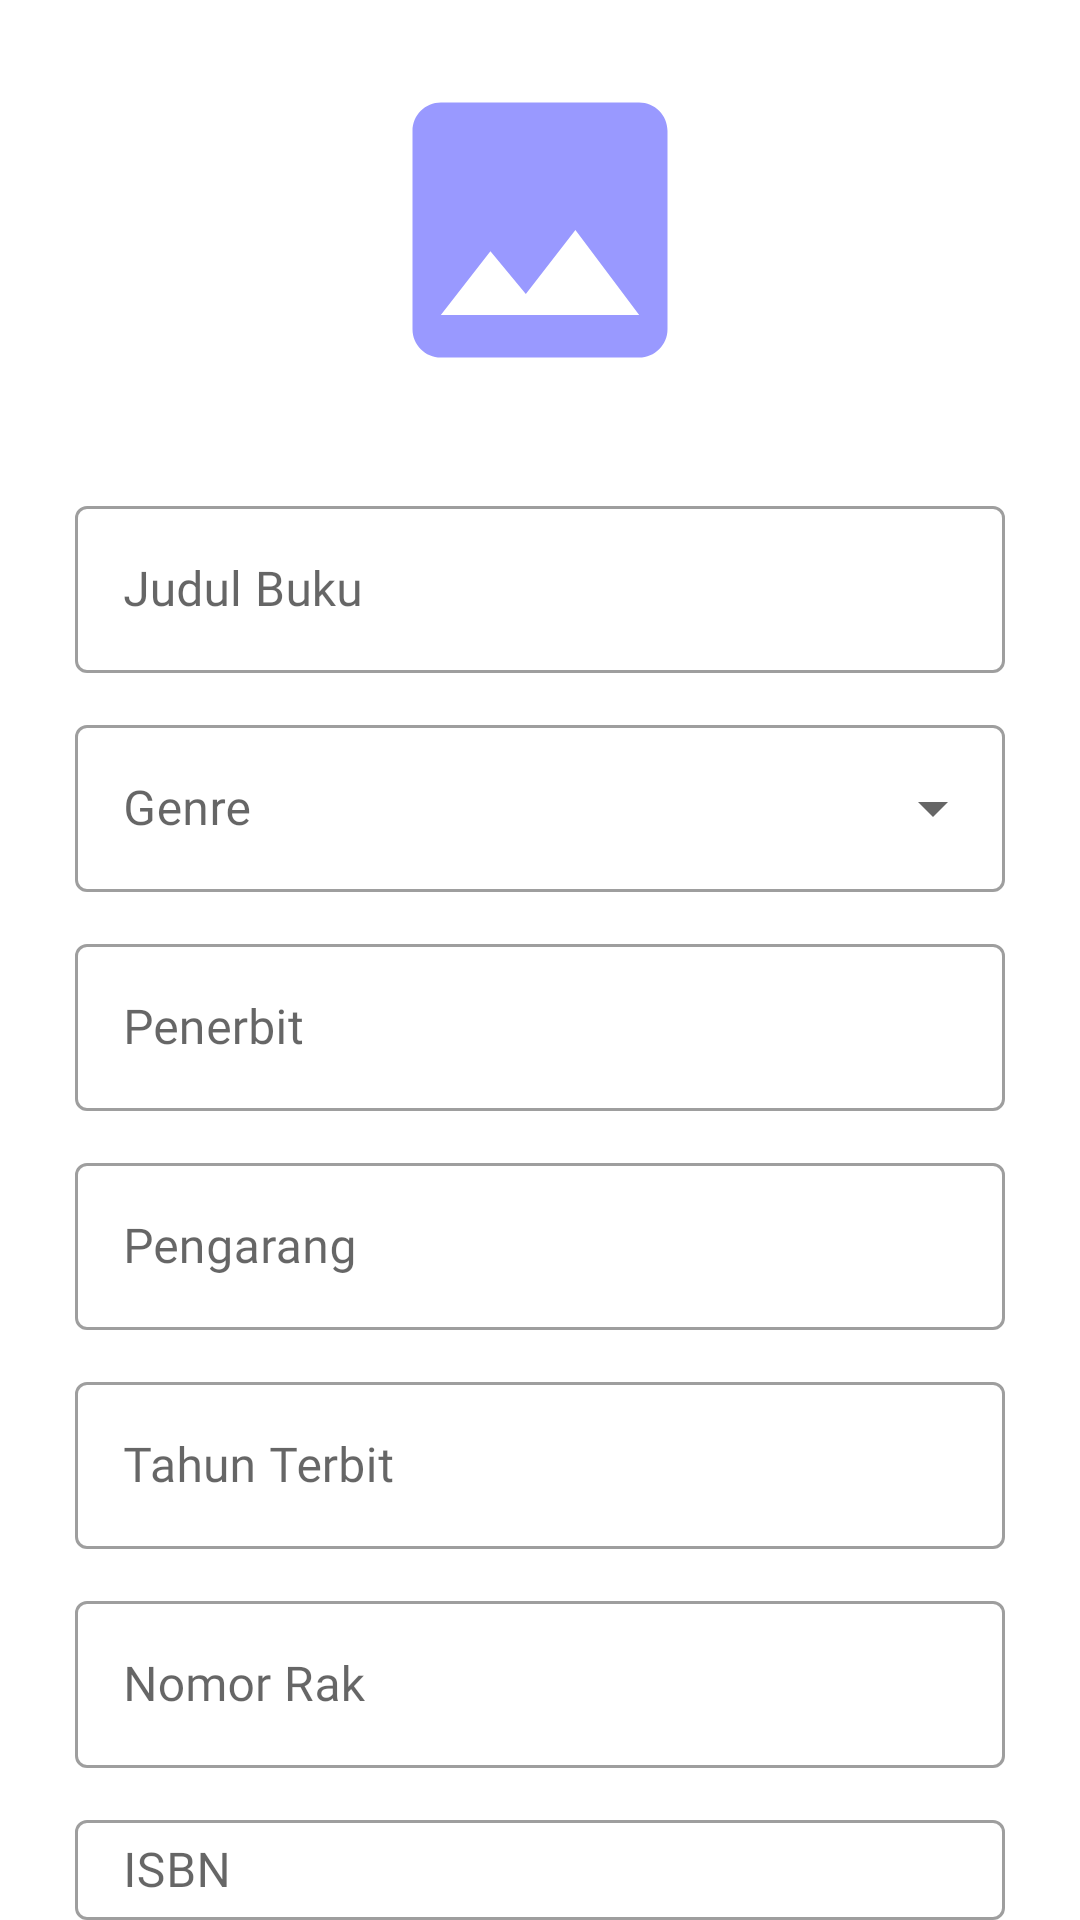

Where to tap for icons on this 1080 × 1920 app screen, as [x,y]:
Choose File: [540,230]
